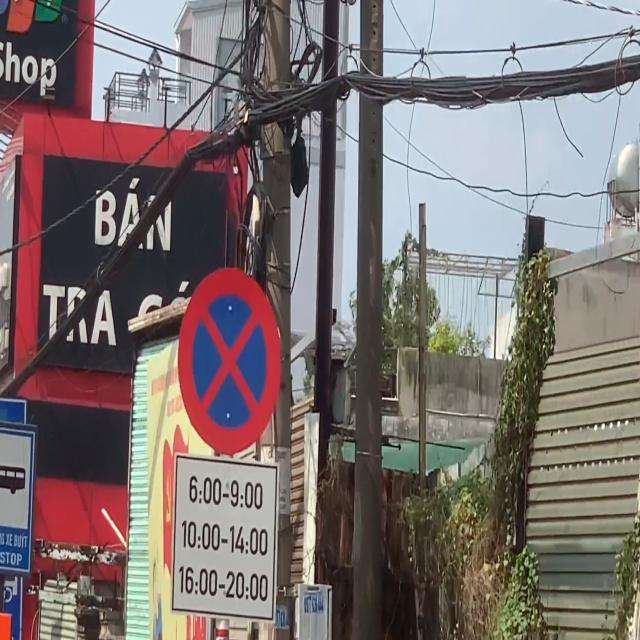Cam dung va do: (177, 266, 282, 456)
Hieu lenh: (0, 424, 36, 576)
